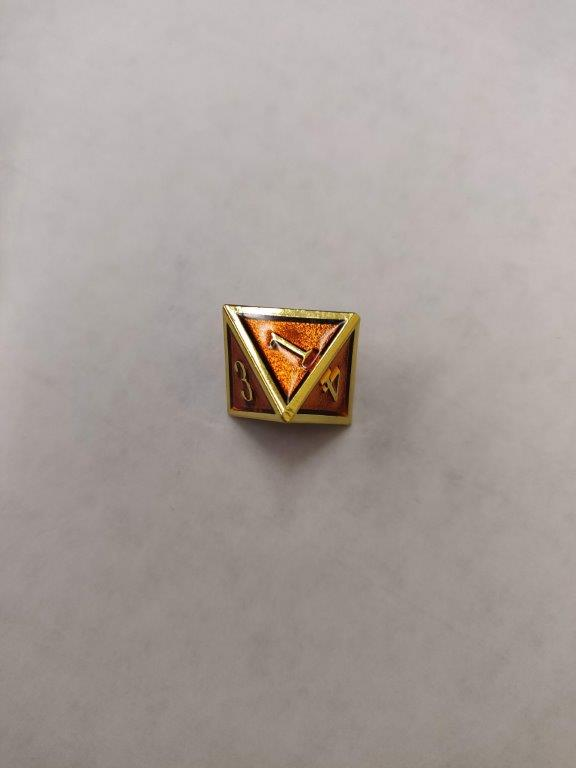d8-1: (220, 301, 362, 438)
